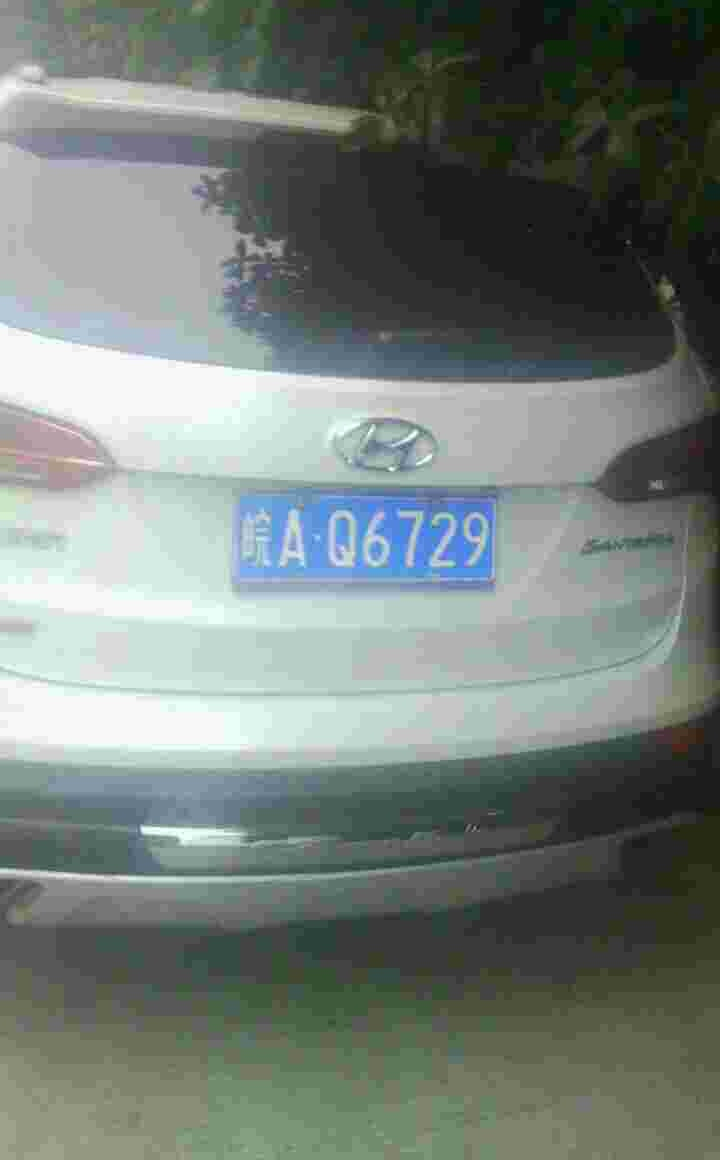license_plate: (229, 497, 497, 586)
